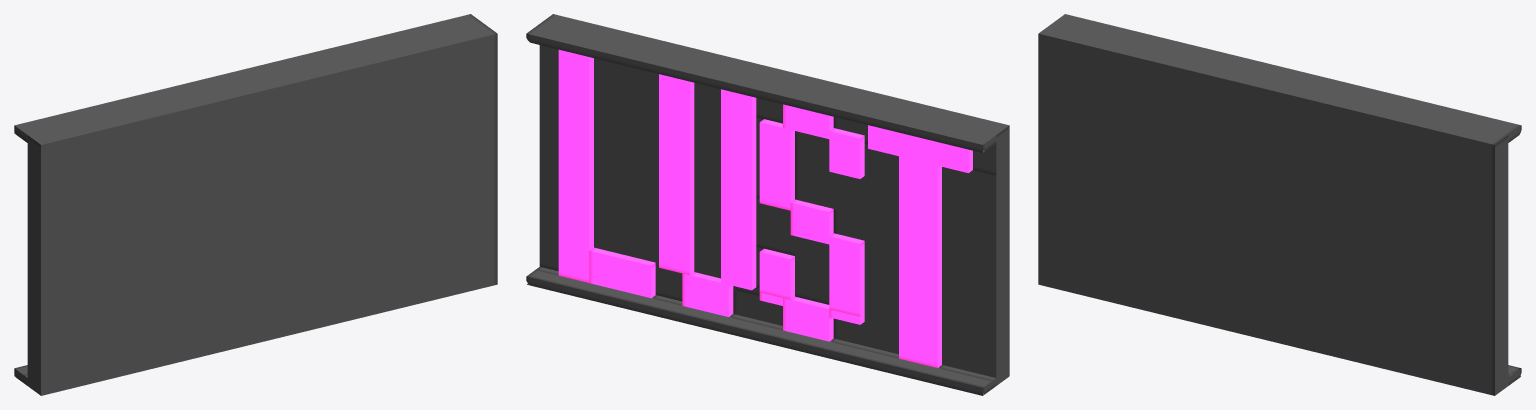
File: neon6.dae
The picture shows the model from 3 angles, left to right: view 1: azimuth 30°, elevation 25°; view 2: azimuth 150°, elevation 25°; view 3: azimuth 330°, elevation 25°; orthographic projection.
Visible parts, largest first — view 1: Content; view 2: Content; view 3: Content.
Part boxes in pixels (x1,y1,x2,y2): Content: [14, 14, 497, 395]; Content: [526, 14, 1009, 395]; Content: [1038, 14, 1521, 395].
Bounding box in the file's own units: 59 × 31 × 6.
Materials: 1 (1 with a texture image).
